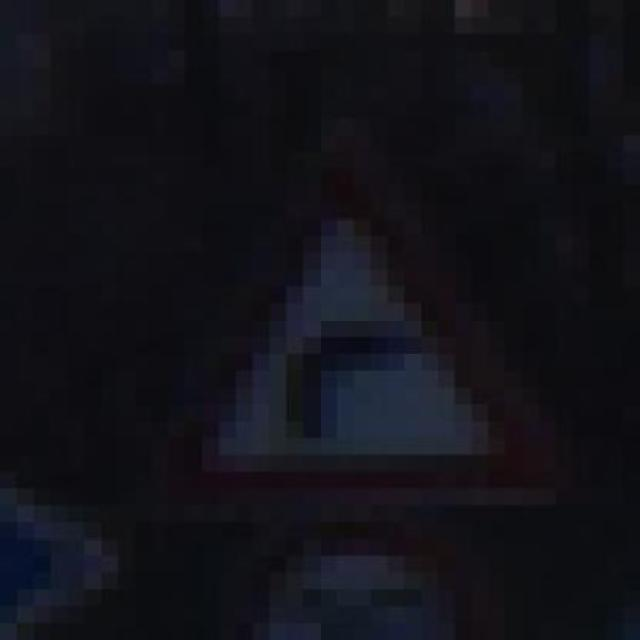Dangerous Rright Curve Ahead: (135, 168, 573, 540)
